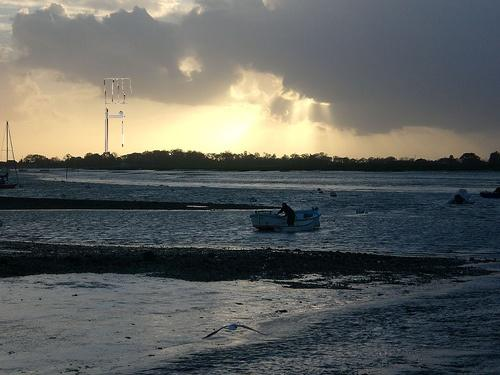tampered: (105, 79, 132, 153)
